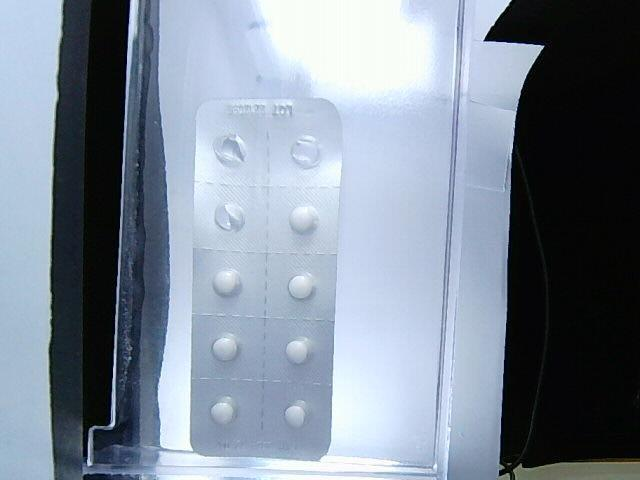Light Front: (186, 98, 344, 463)
No Pill Front: (214, 133, 247, 167), (290, 135, 320, 168), (215, 203, 245, 231)
Pill Front: (290, 206, 317, 233), (214, 270, 240, 296), (210, 398, 236, 424), (286, 338, 311, 364), (213, 335, 238, 360), (284, 401, 307, 427), (289, 276, 314, 299)
